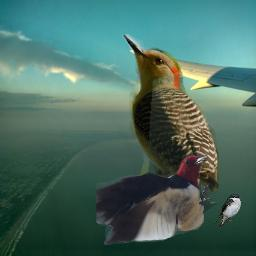Swallow: (215, 192, 242, 228)
Woodpecker: (122, 34, 219, 223), (96, 150, 219, 245)
